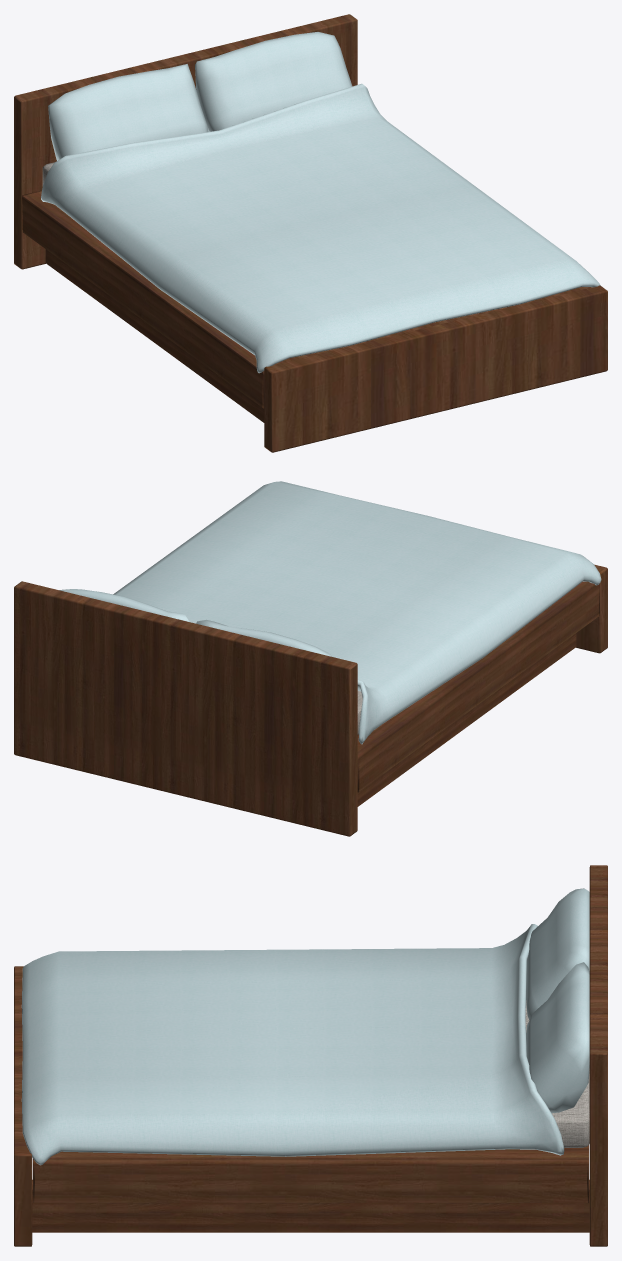
File: bed.glb
3 views of the same model, one above another, from view 1: azimuth 30°, elevation 25°; view 2: azimuth 150°, elevation 25°; view 3: azimuth 270°, elevation 25° (orthographic). The views are drawn at different scales.
Visible parts, largest first — view 1: Node; view 2: Node; view 3: Node.
Part boxes in pixels (<box>): Node: <box>14,14,607,452</box>; Node: <box>14,481,607,836</box>; Node: <box>14,865,607,1246</box>.
Bounding box in the file's own units: 1.61 × 0.7717 × 2.1.
3 materials, 3 textured.
